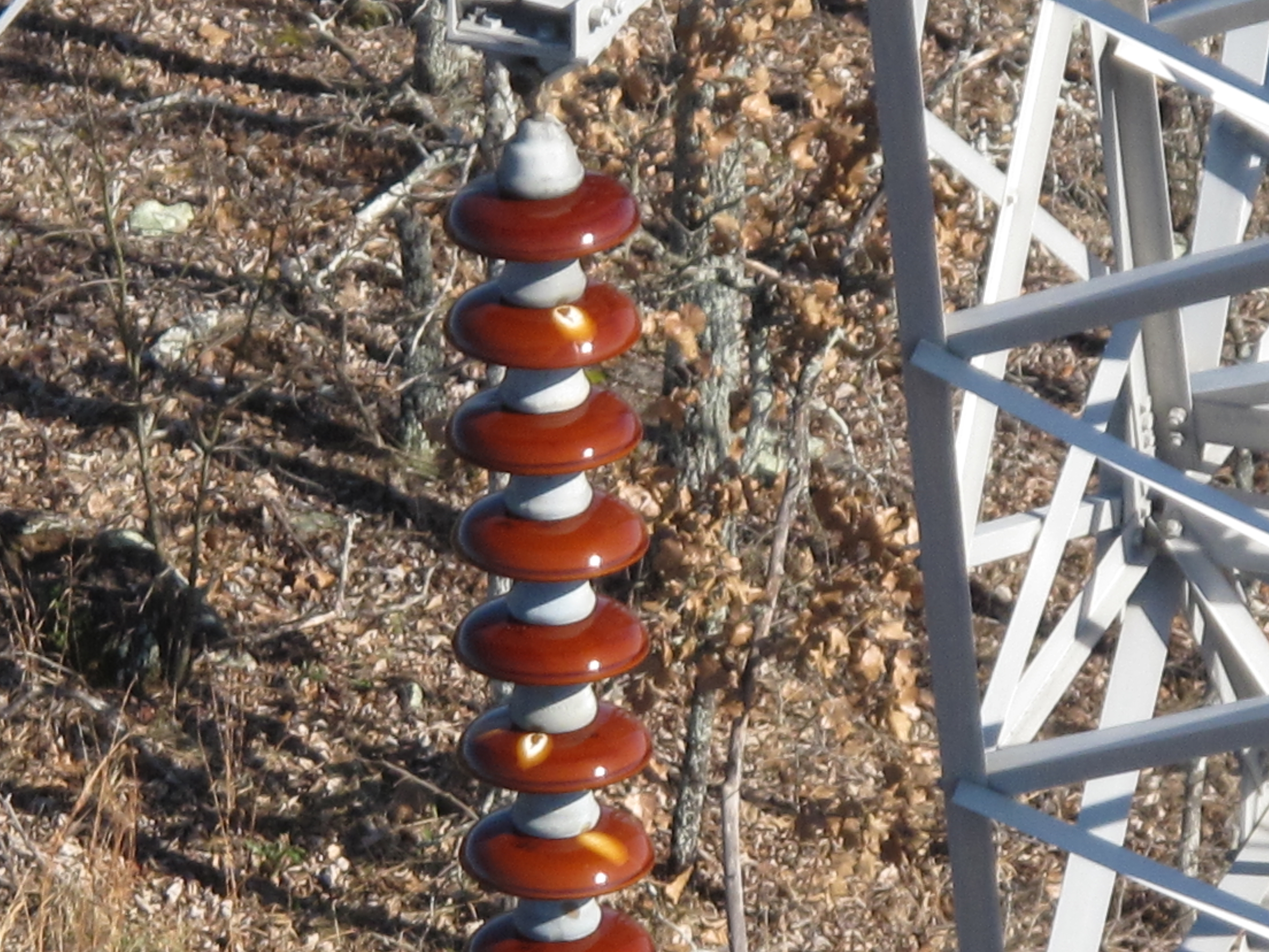Flashover: (548, 296, 598, 348), (582, 819, 634, 868), (510, 723, 556, 769)
insulator: (446, 160, 665, 952)
